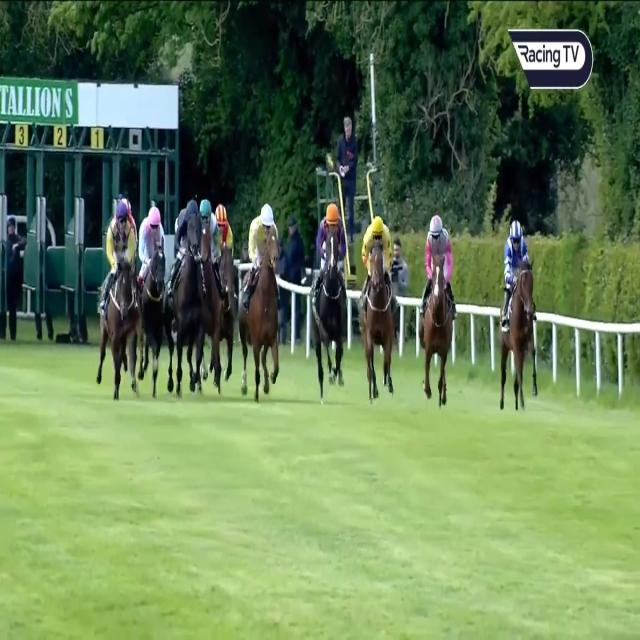horses-racing: (307, 199, 349, 395), (242, 202, 285, 393), (356, 209, 398, 399), (418, 216, 458, 404), (499, 220, 538, 412), (102, 192, 136, 392), (131, 209, 165, 392), (173, 198, 200, 406), (194, 194, 221, 389), (214, 196, 237, 274), (120, 192, 144, 228)
